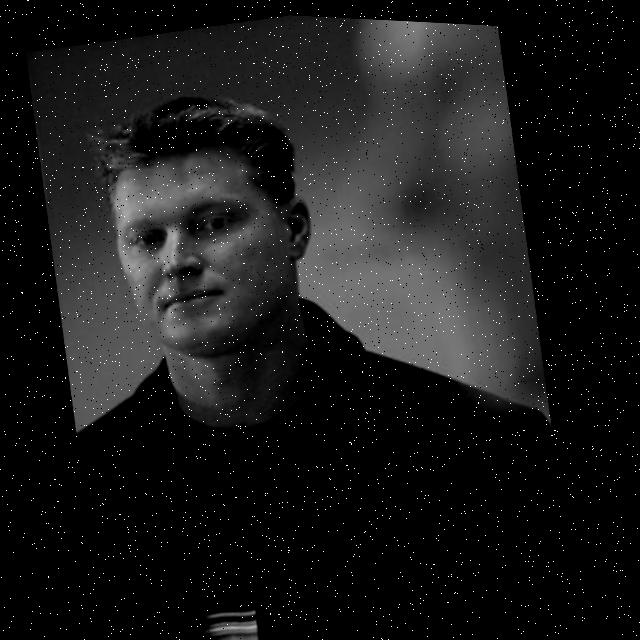face: (101, 133, 347, 388)
